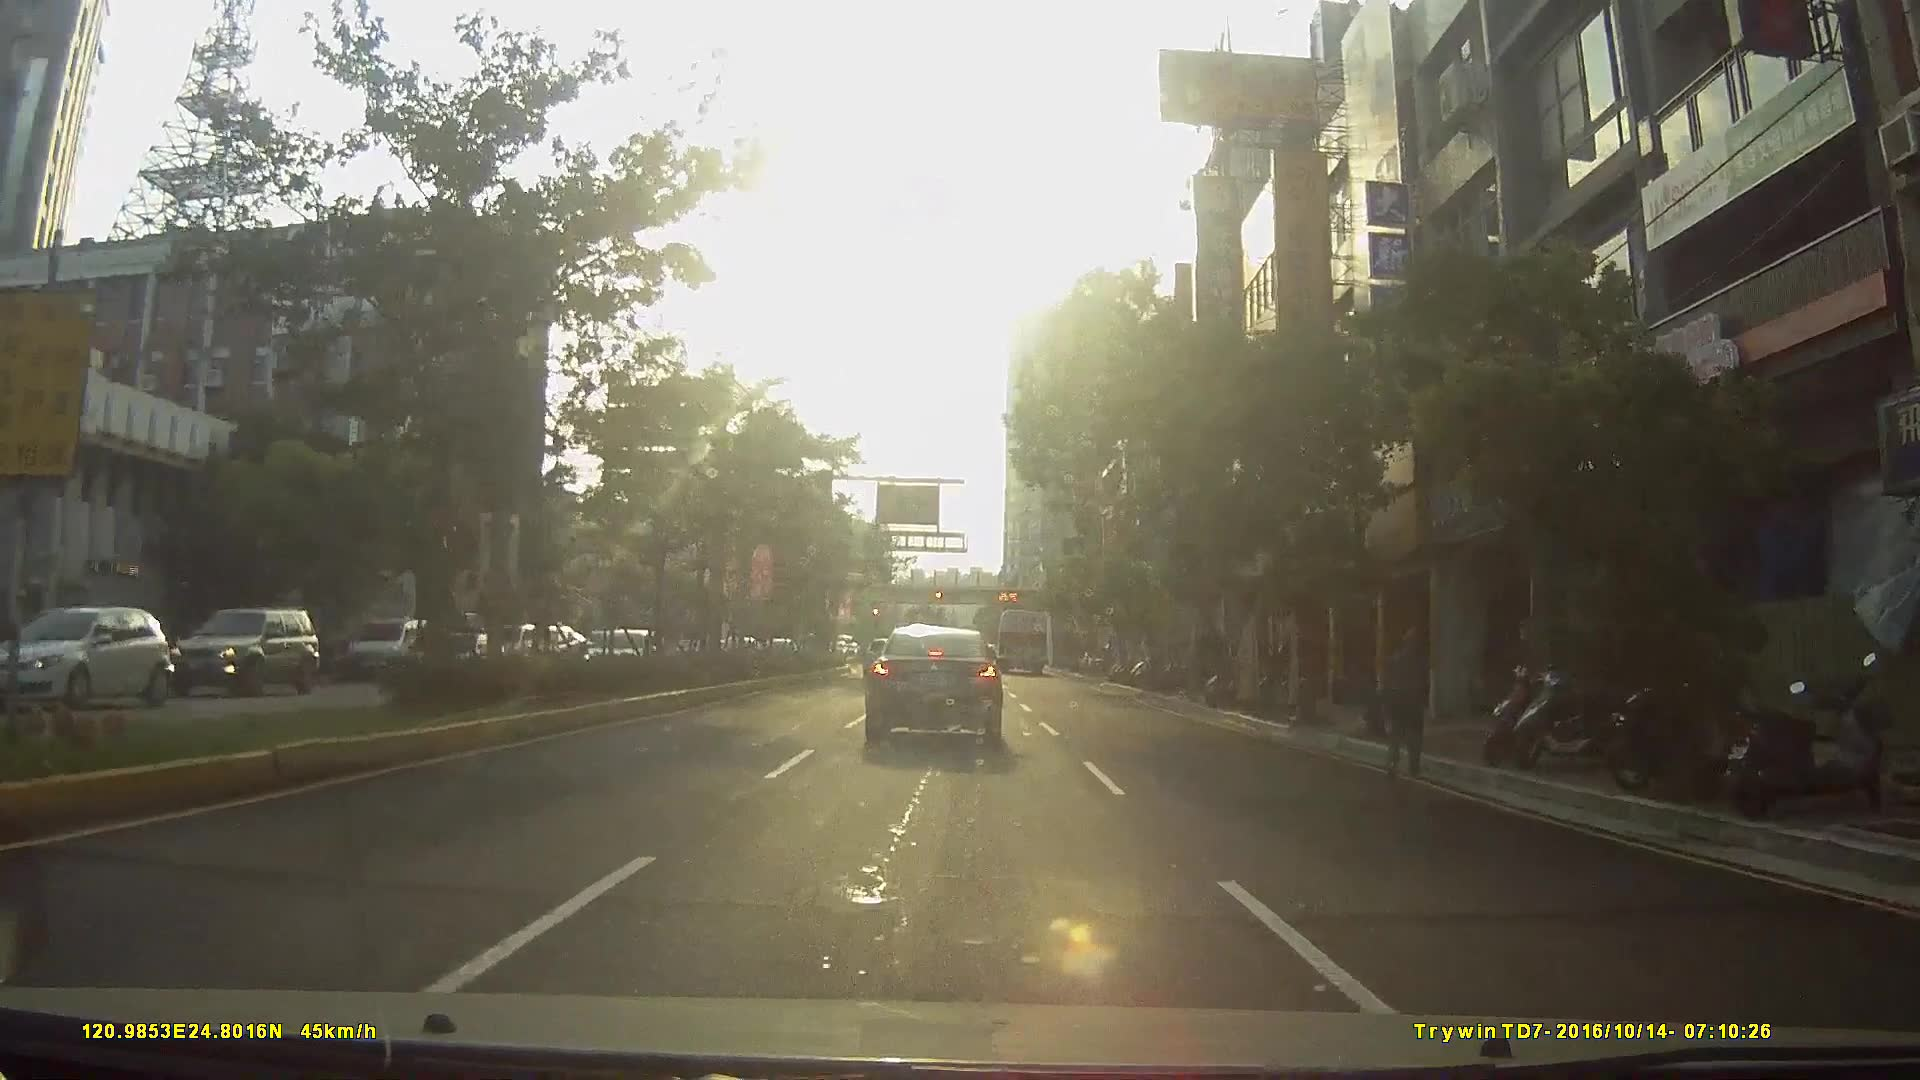pedestrian: (1374, 620, 1435, 768)
vehicle: (8, 598, 174, 708), (862, 622, 1003, 743), (159, 602, 324, 702), (340, 616, 431, 680), (996, 604, 1049, 671)
